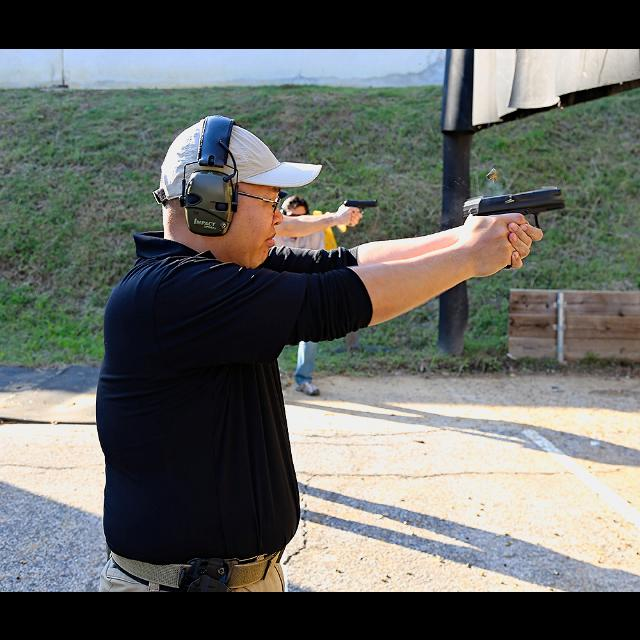handgun: (466, 182, 570, 232)
